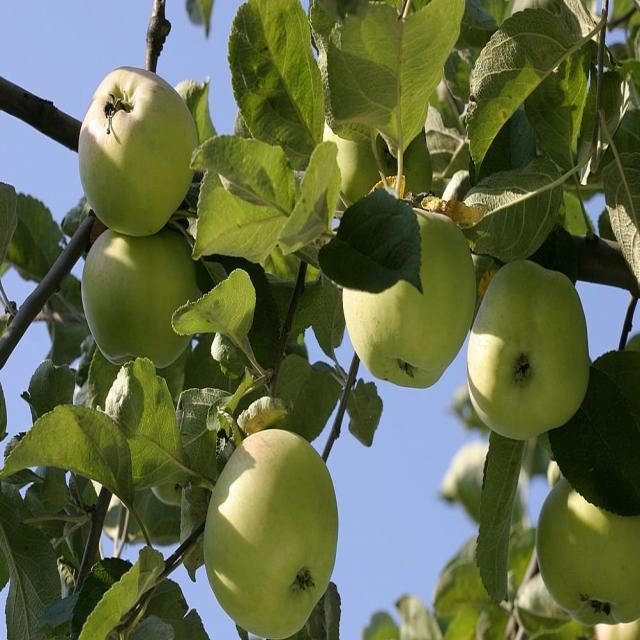Green Apple: (202, 421, 330, 637), (339, 203, 467, 396), (474, 264, 582, 441), (534, 463, 640, 634), (79, 220, 202, 362), (81, 67, 189, 222)
